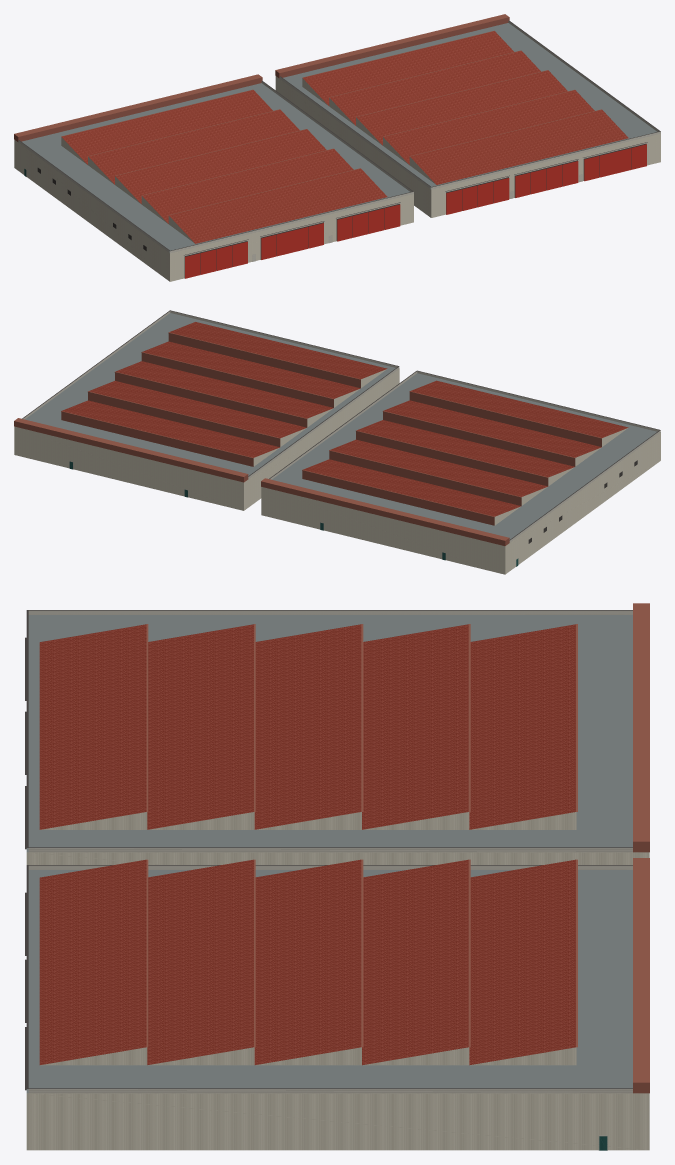
The model's file is cyxd_north_main_lod3.gltf.
The picture shows the model from 3 angles, top to bottom: view 1: azimuth 30°, elevation 25°; view 2: azimuth 150°, elevation 25°; view 3: azimuth 270°, elevation 25°; orthographic projection. The views are drawn at different scales.
Visible parts, largest first — view 1: cyxd_north_main; view 2: cyxd_north_main; view 3: cyxd_north_main.
Part boxes in pixels (x1,y1,x2,y2): cyxd_north_main: [14, 14, 660, 281]; cyxd_north_main: [14, 310, 660, 574]; cyxd_north_main: [25, 603, 649, 1150].
Size of the model in its own units: 171 by 12.5 by 94.51.
